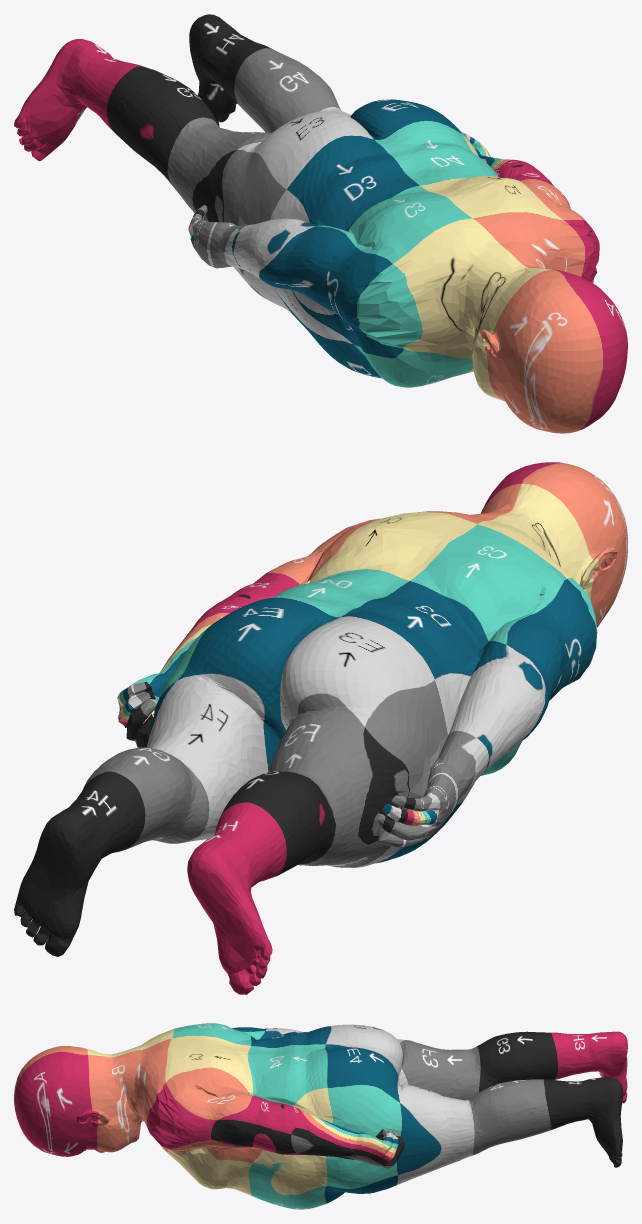
File: kid00-kid01.obj
The picture shows the model from 3 angles, top to bottom: view 1: azimuth 30°, elevation 25°; view 2: azimuth 150°, elevation 25°; view 3: azimuth 270°, elevation 25°; orthographic projection. The views are drawn at different scales.
Visible parts, largest first — view 1: kid00-kid01_export; view 2: kid00-kid01_export; view 3: kid00-kid01_export.
Part boxes in pixels (x1,y1,x2,y2): kid00-kid01_export: [14, 14, 627, 433]; kid00-kid01_export: [14, 462, 627, 994]; kid00-kid01_export: [14, 1023, 627, 1209].
Bounding box in the file's own units: 0.4268 × 0.3134 × 1.07.
Materials: 1 (1 with a texture image).
